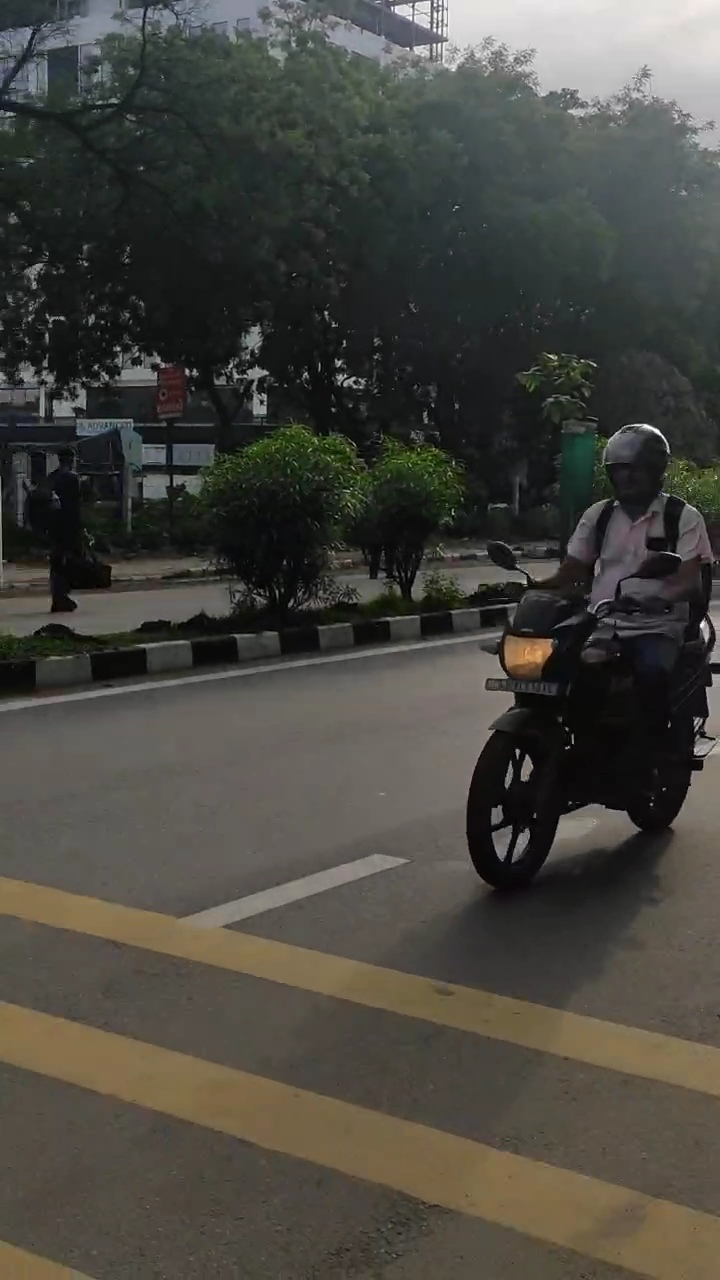BikeWithRider: (447, 406, 720, 913)
Helmet: (592, 413, 678, 512)
